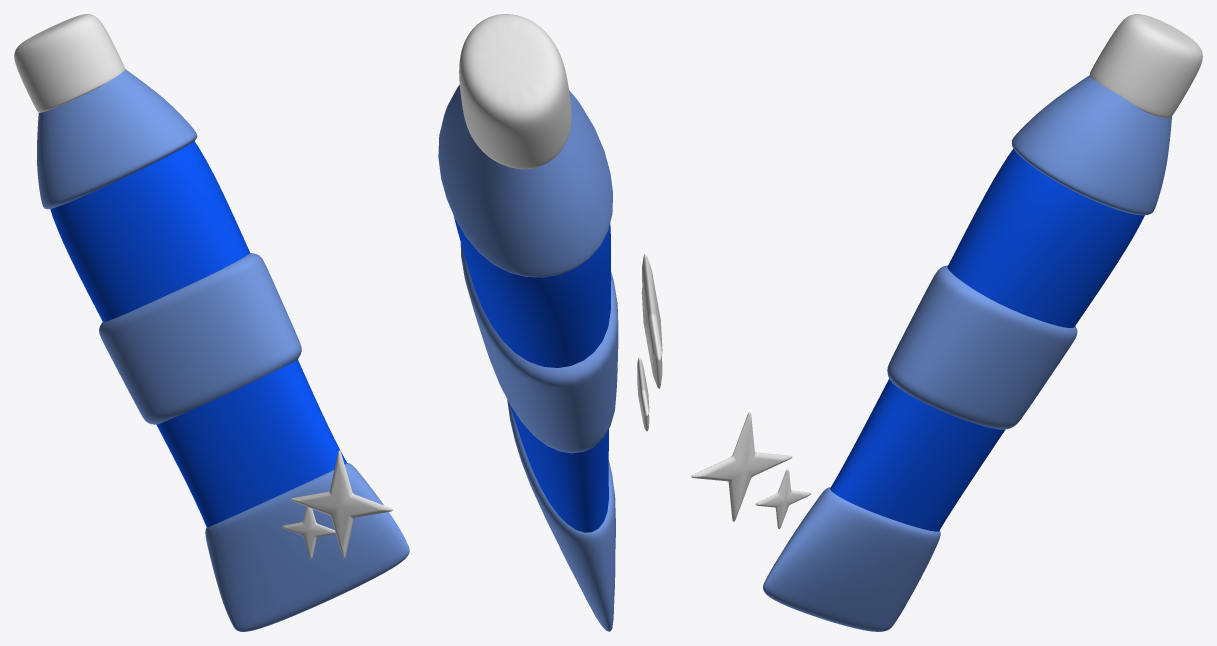
File: 10. toothpaste.gltf
3 renders of one model, left to right at view 1: azimuth 30°, elevation 25°; view 2: azimuth 150°, elevation 25°; view 3: azimuth 270°, elevation 25°, orthographic. The views are drawn at different scales.
Visible parts, largest first — view 1: Cube.005, Cube.008, Cube.007, Cube.006, Cylinder.009, Plane.047; view 2: Cube.006, Cube.005, Cylinder.009, Cube.008, Cube.007, Plane.047; view 3: Cube.005, Cube.008, Cube.007, Cube.006, Cylinder.009, Plane.047.
Part boxes in pixels (box(x1,y1,x2,y2)): Cube.005: box(50, 141, 346, 527); Cube.008: box(99, 253, 301, 424); Cube.007: box(205, 463, 409, 631); Cube.006: box(37, 69, 197, 209); Cylinder.009: box(14, 14, 125, 112); Plane.047: box(281, 450, 393, 559); Cube.006: box(438, 85, 612, 277); Cube.005: box(454, 216, 611, 532); Cylinder.009: box(459, 14, 571, 169); Cube.008: box(460, 242, 618, 453); Cube.007: box(507, 400, 615, 631); Plane.047: box(637, 254, 662, 431); Cube.005: box(830, 148, 1144, 531); Cube.008: box(887, 265, 1077, 429); Cube.007: box(763, 487, 940, 631); Cube.006: box(1012, 75, 1171, 215); Cylinder.009: box(1090, 14, 1202, 118); Plane.047: box(691, 412, 810, 529).
Size of the model in its own units: 1.81 by 4.49 by 3.55.
